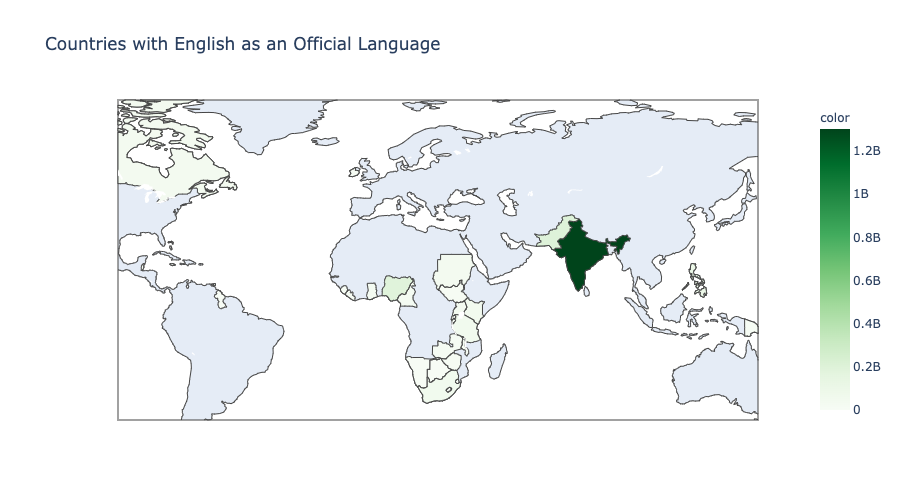

This screenshot's page, from the dashboard's own definition file:
{"tool":"tableau","page":{"name":"Dashboard 2","canvas":[650,860],"ordinal":1},"visuals":[{"type":"worksheet","title":"Sheet 3","mark":"Multipolygon","box":[8,9.8,474,840.3]},{"type":"legend","title":"Sheet 3","param":"[federated.18ai2ps00hkj1114wkhbp0jn7sxn].[none:CONTINENT:nk]","box":[482,9.8,160,253.4]}]}

Visuals, with their boxes on the page's 650x860 design canvas (x1, y1, x2, y2). These are canvas units, not pixel positions in the 900x500 screenshot, which may show the page scaled, cropped or inside an application window:
"Sheet 3" worksheet (Multipolygon marks): bbox=(8, 10, 482, 850)
"Sheet 3" legend: bbox=(482, 10, 642, 263)
